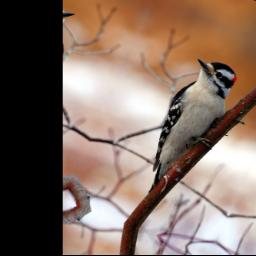Woodpecker: (133, 52, 247, 207)
